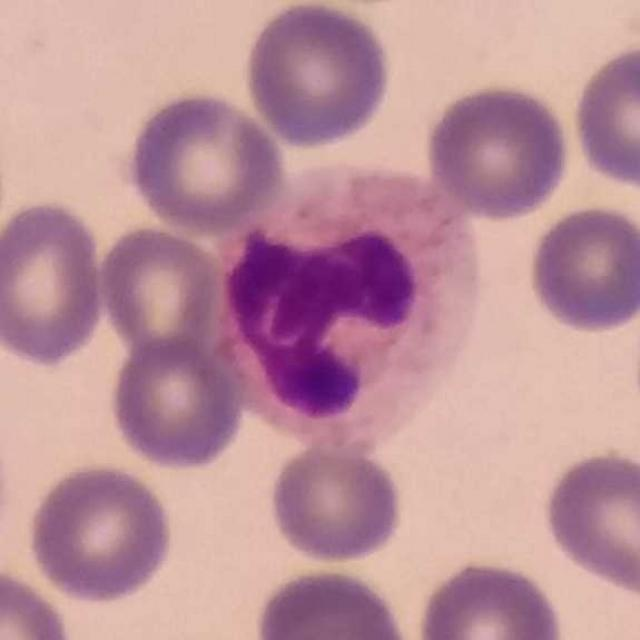Neutrophil: (219, 162, 483, 457)
RBC: (122, 87, 288, 236), (241, 1, 395, 151), (23, 458, 178, 606), (421, 79, 573, 223), (105, 333, 247, 473), (0, 196, 110, 369), (265, 438, 407, 566), (95, 222, 226, 360), (538, 445, 640, 601), (523, 200, 640, 336), (413, 555, 569, 640), (250, 563, 413, 640), (567, 40, 640, 193), (1, 565, 77, 640)
